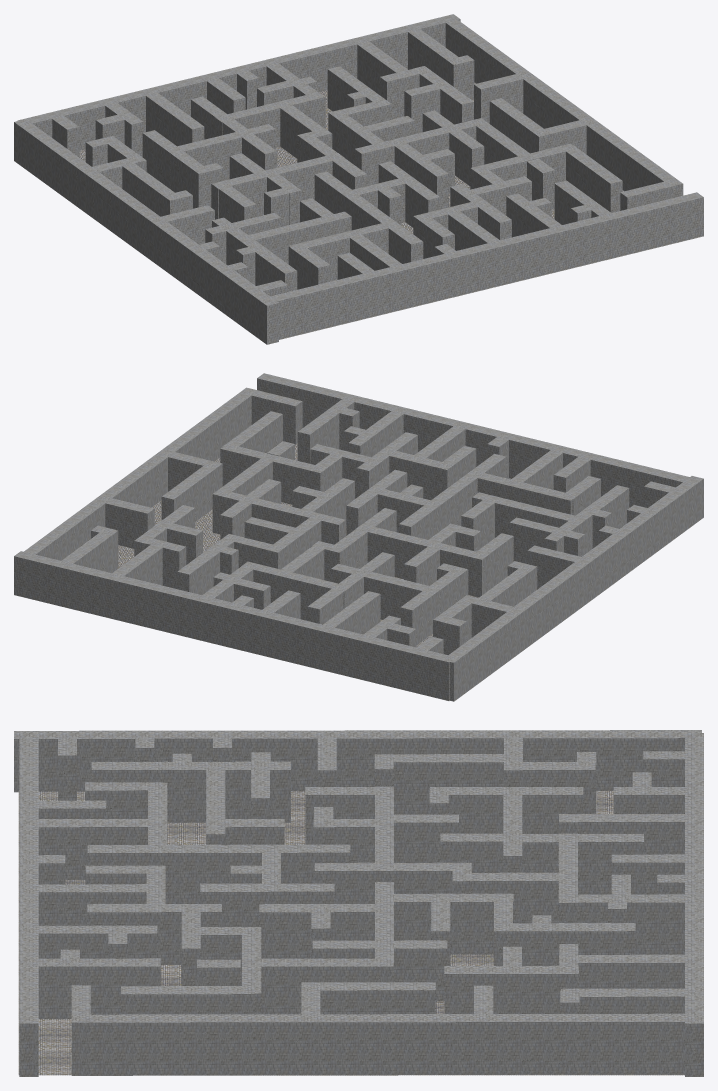
Rendered from Maze_Final_Test.glb.
3 views of the same model, one above another, from view 1: azimuth 30°, elevation 25°; view 2: azimuth 150°, elevation 25°; view 3: azimuth 270°, elevation 25° (orthographic). The views are drawn at different scales.
Visible parts, largest first — view 1: Plane; view 2: Plane; view 3: Plane.
Boxes of the visible parts, x1,y1,x2,y2 form: Plane: [14, 14, 703, 344]; Plane: [14, 373, 703, 701]; Plane: [14, 730, 703, 1076].
Size of the model in its own units: 153 by 12.9 by 151.
Materials: 2 (2 with a texture image).
